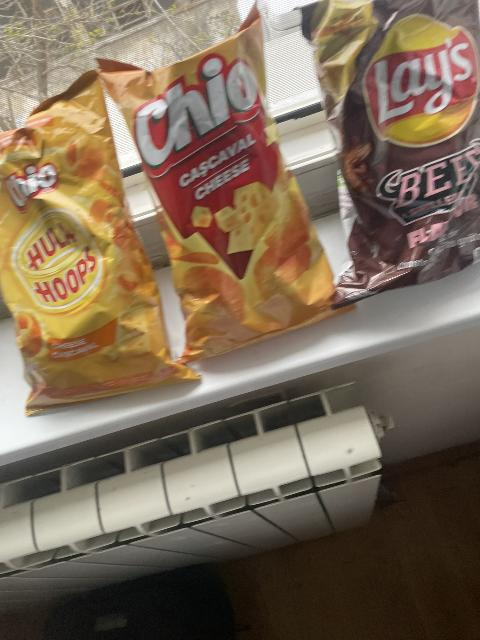Chio Cascaval 125g: (100, 5, 345, 359)
Chio Hula Hoops Cheese 70g: (0, 73, 200, 401)
Lays Beef Grilled Ribs 125g: (313, 4, 480, 303)
